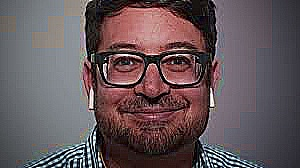earphone: (83, 61, 98, 111), (208, 59, 220, 108)
